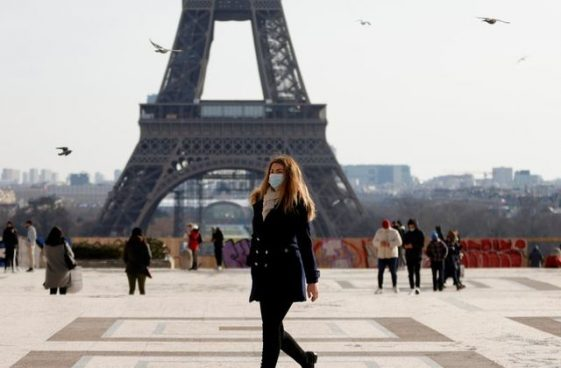with_mask: (268, 164, 287, 193)
